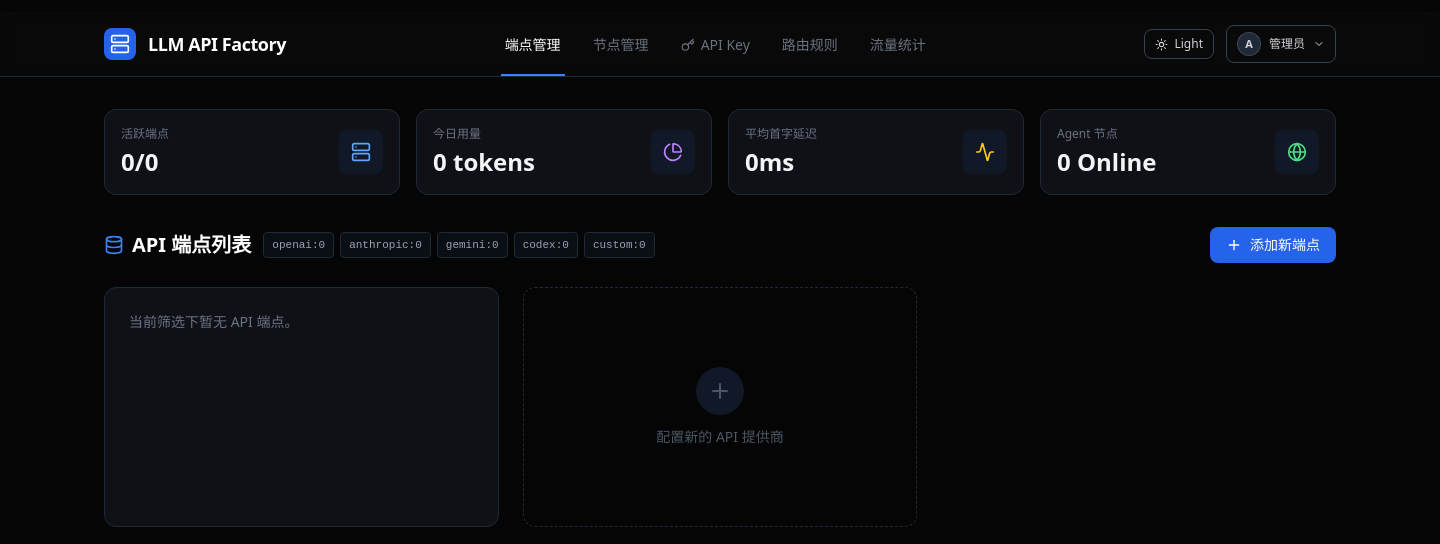
Test: Console rules › shows routing rules
This screenshot has width=1440, height=544.
What coordinates should you click on to do the following:
click the button "路由规则"
I would click on:
 (810, 44)
Its box is x1=778 y1=12 x2=842 y2=76.
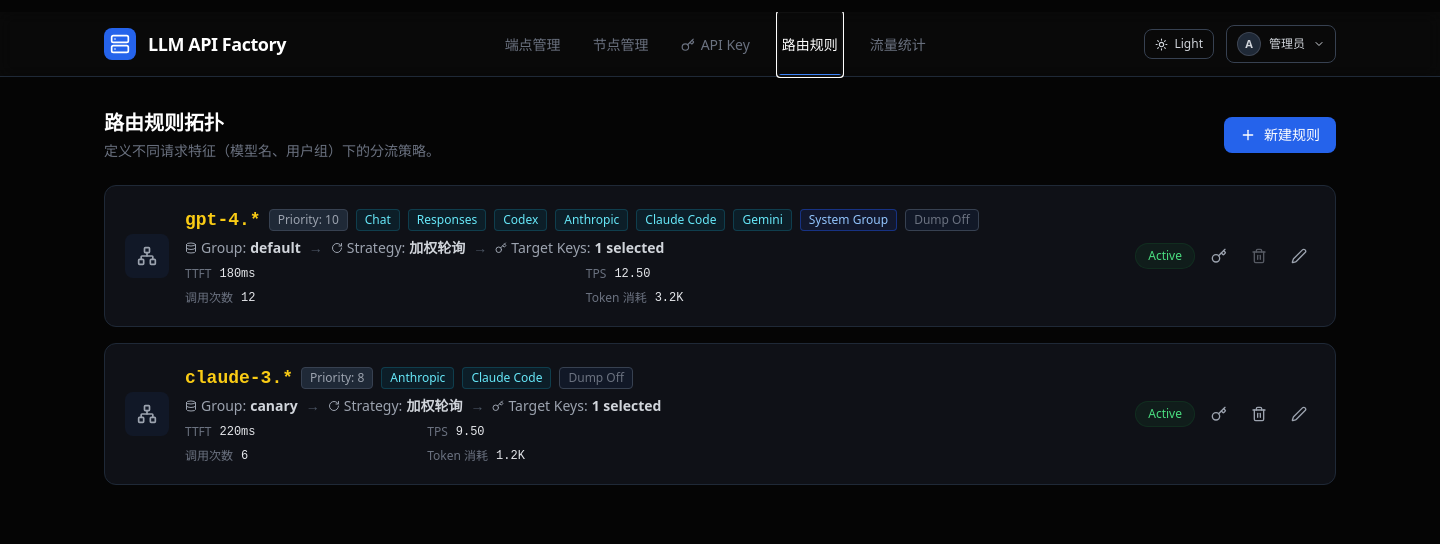
expect the heading "路由规则拓扑" is shown: met, box x1=104 y1=109 x2=224 y2=136
expect the text "gpt-4.*" is shown: met, box x1=185 y1=206 x2=261 y2=234
expect the text "System Group" is shown: met, box x1=800 y1=209 x2=897 y2=231
